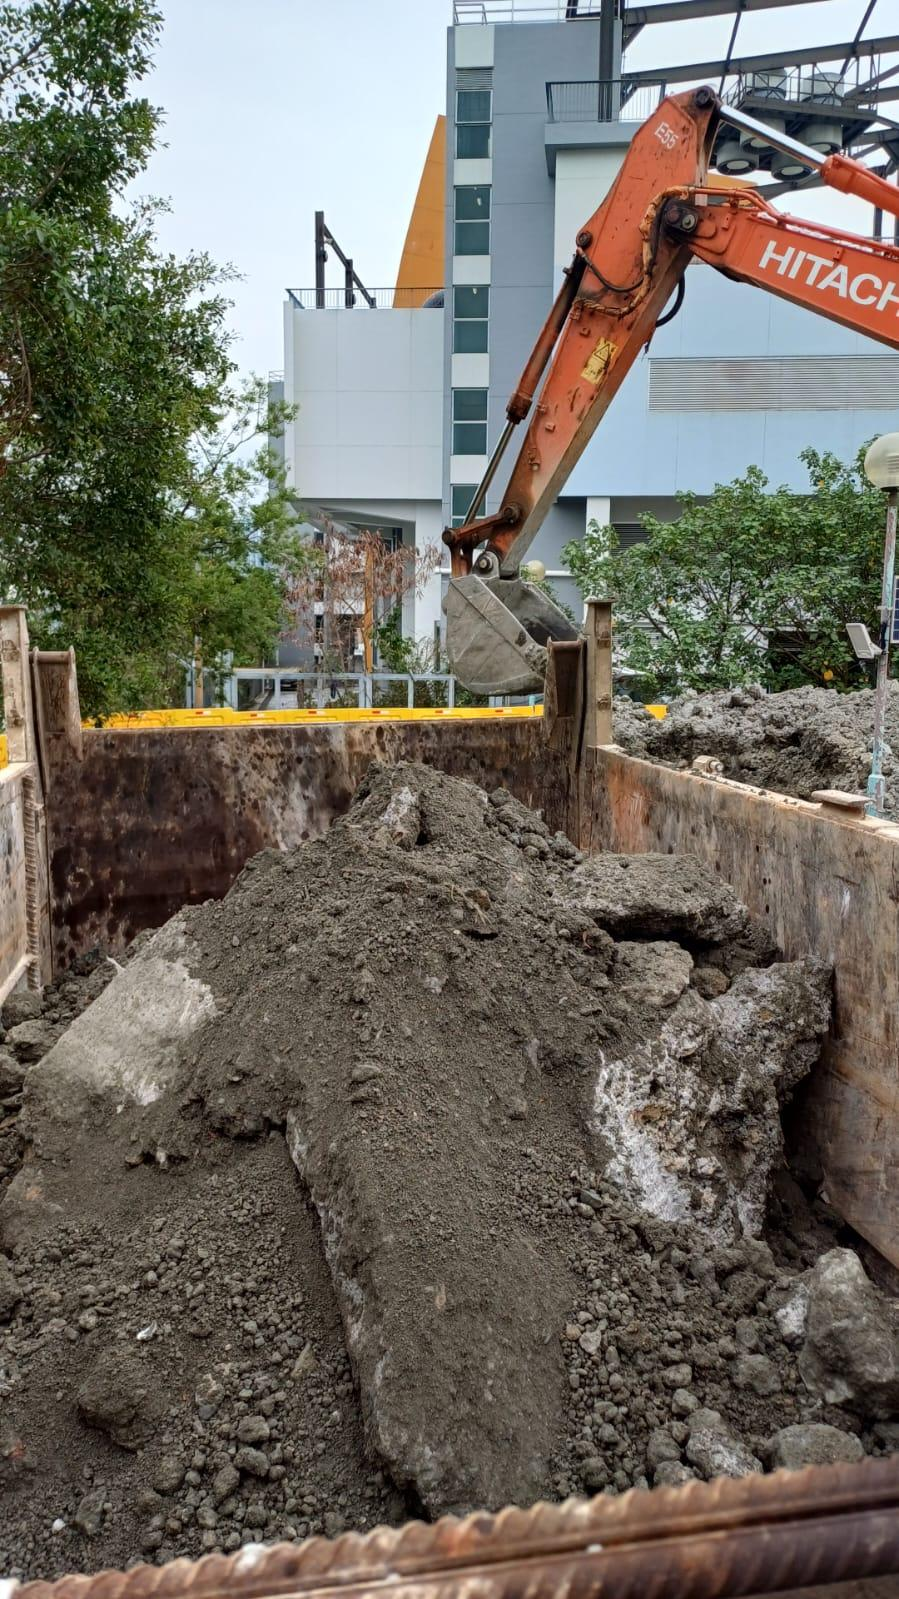dry: (27, 787, 899, 1580)
